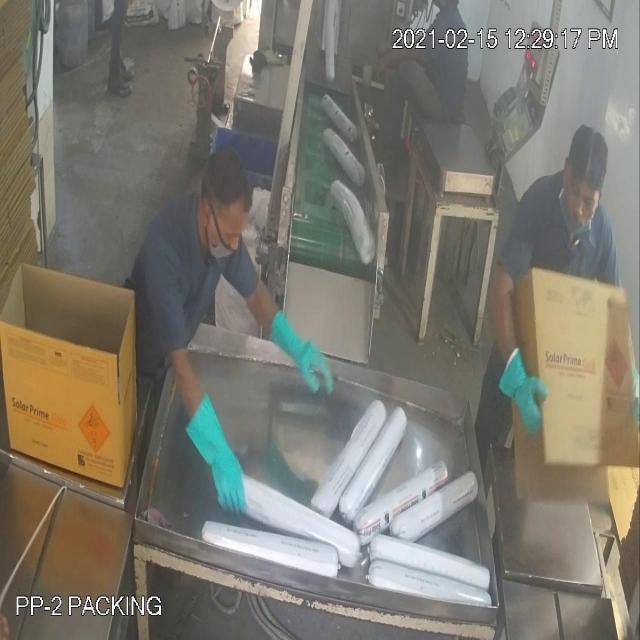Gloves: (61, 110, 522, 450)
